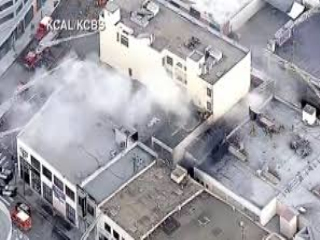smoke: (22, 55, 185, 146)
